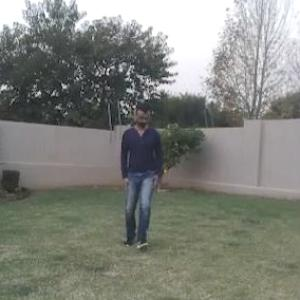follow: (118, 96, 163, 248)
